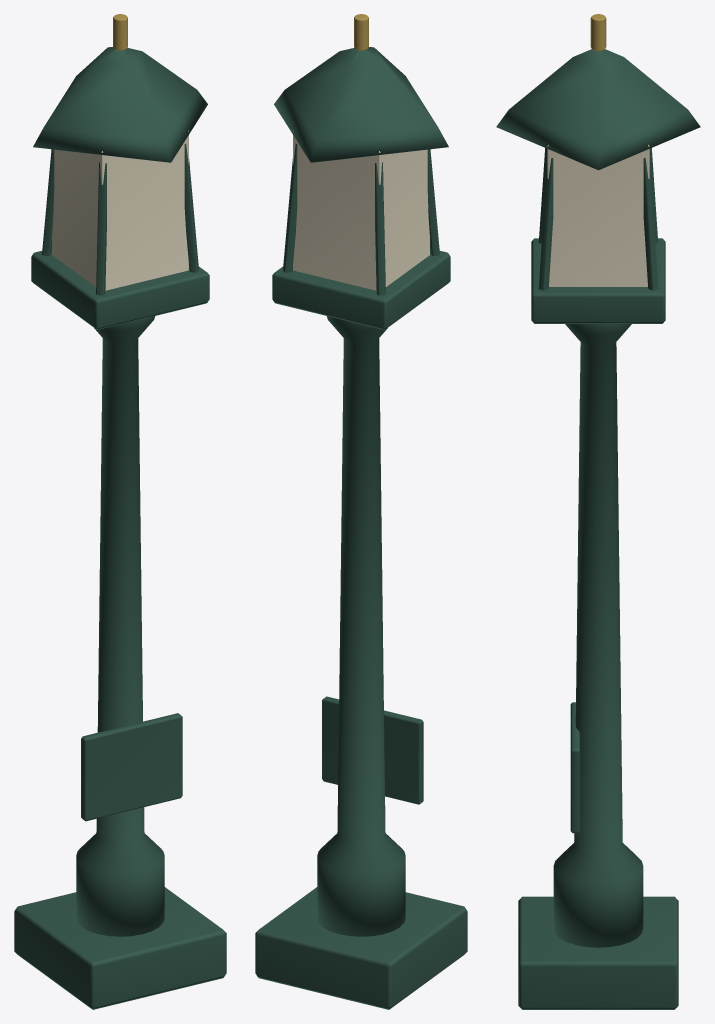
Rendered from S051_street_lamp_rebuilt.glb.
The picture shows the model from 3 angles, left to right: view 1: azimuth 30°, elevation 25°; view 2: azimuth 150°, elevation 25°; view 3: azimuth 270°, elevation 25°; orthographic projection.
Parts seen in each view (by area): view 1: Deep_green_outdoor_paint, Warm_ivory.001, Satin_brass.001; view 2: Deep_green_outdoor_paint, Warm_ivory.001, Satin_brass.001; view 3: Deep_green_outdoor_paint, Warm_ivory.001, Satin_brass.001.
Boxes of the visible parts, left/top/right/bottom form: Deep_green_outdoor_paint: left=14, top=47, right=226, bottom=1009; Warm_ivory.001: left=52, top=130, right=188, bottom=290; Satin_brass.001: left=113, top=14, right=127, bottom=50; Deep_green_outdoor_paint: left=255, top=47, right=467, bottom=1009; Warm_ivory.001: left=293, top=130, right=429, bottom=290; Satin_brass.001: left=354, top=14, right=368, bottom=50; Deep_green_outdoor_paint: left=496, top=49, right=700, bottom=1009; Warm_ivory.001: left=547, top=145, right=649, bottom=286; Satin_brass.001: left=590, top=14, right=606, bottom=50.
Bounding box in the file's own units: 0.25 × 1.29 × 0.25.
